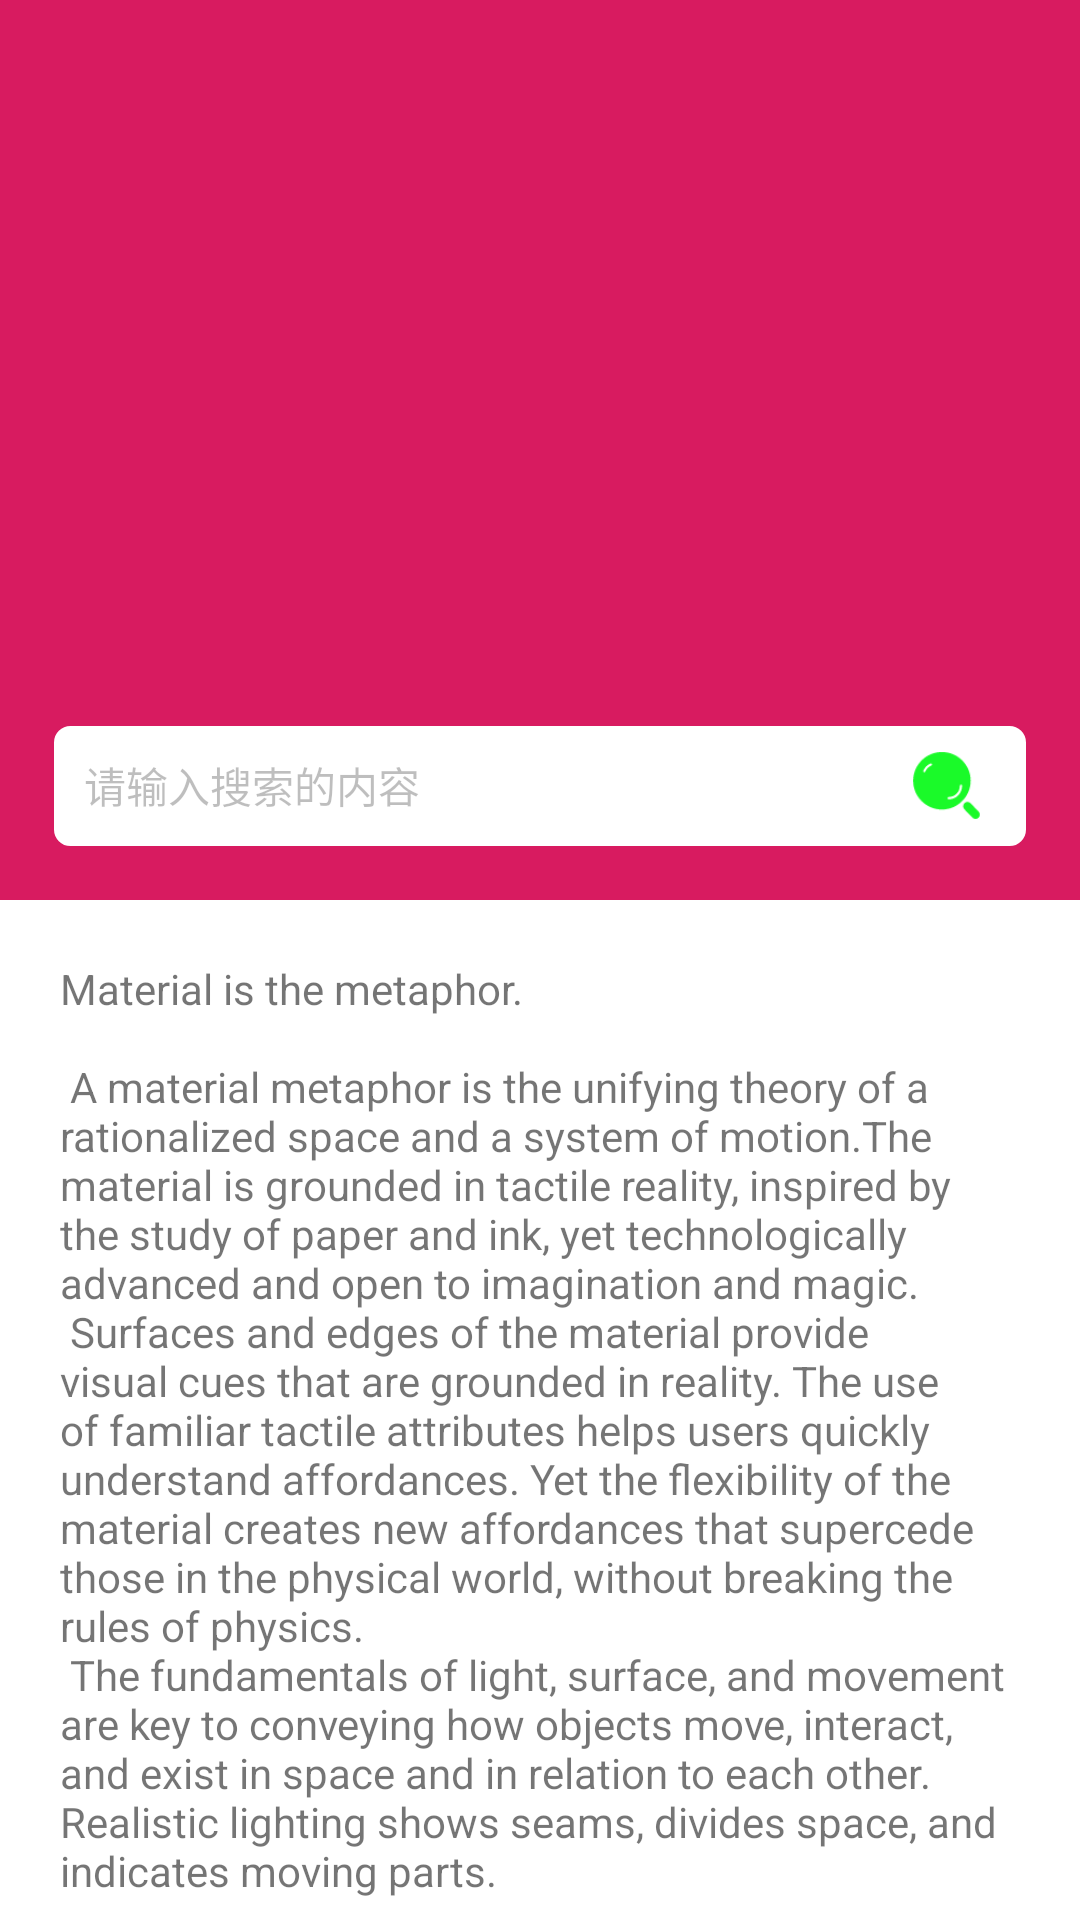

Named icons in this screenshot (1080w x 1920h) and their bounding boxes, detection(x1, y1, x2, y2):
search: detection(913, 752, 980, 819)
